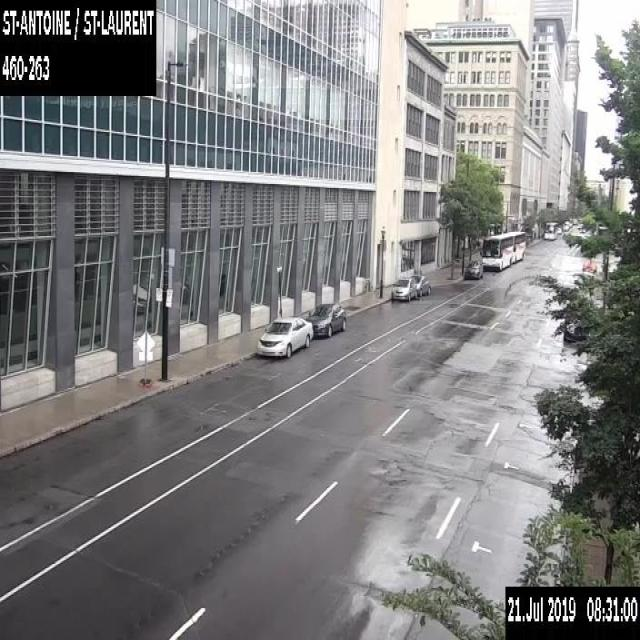bus: (479, 230, 525, 270), (543, 220, 557, 240)
construction: (134, 329, 156, 386), (581, 257, 596, 271)
vehicle: (254, 315, 313, 360), (305, 302, 346, 336), (390, 277, 417, 301), (408, 273, 431, 294), (462, 259, 482, 278), (557, 226, 561, 233)
